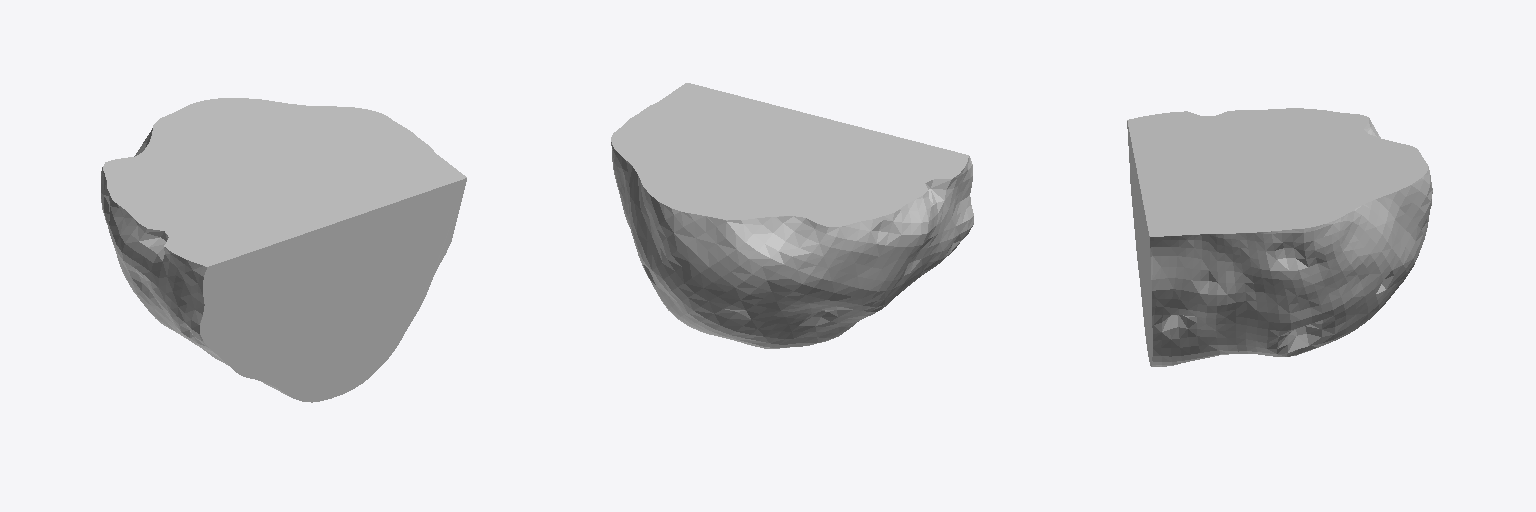
Rendered from AsteroidThird2.obj.
3 views of the same model, side by side, from view 1: azimuth 30°, elevation 25°; view 2: azimuth 150°, elevation 25°; view 3: azimuth 270°, elevation 25° (orthographic).
Visible parts, largest first — view 1: asteroid.001; view 2: asteroid.001; view 3: asteroid.001.
Boxes of the visible parts, box(x1,y1,x2,y2) form: asteroid.001: box(101, 98, 466, 402); asteroid.001: box(611, 83, 973, 348); asteroid.001: box(1127, 108, 1432, 366).
Size of the model in its own units: 1.03 by 0.6546 by 0.9305.